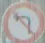Don't turn left: (2, 4, 42, 41)
